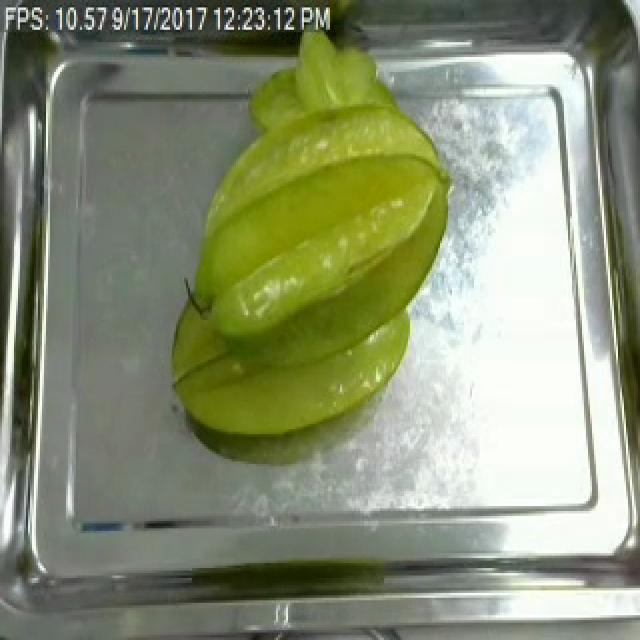fruit: (184, 22, 462, 410)
